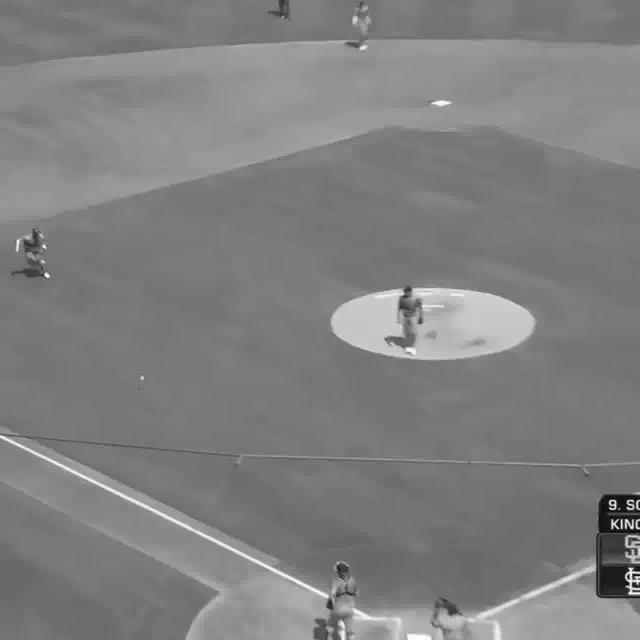base: (428, 98, 454, 111), (406, 634, 431, 640)
baseball: (140, 378, 144, 380)
shoe: (404, 344, 419, 361), (43, 272, 52, 279)
